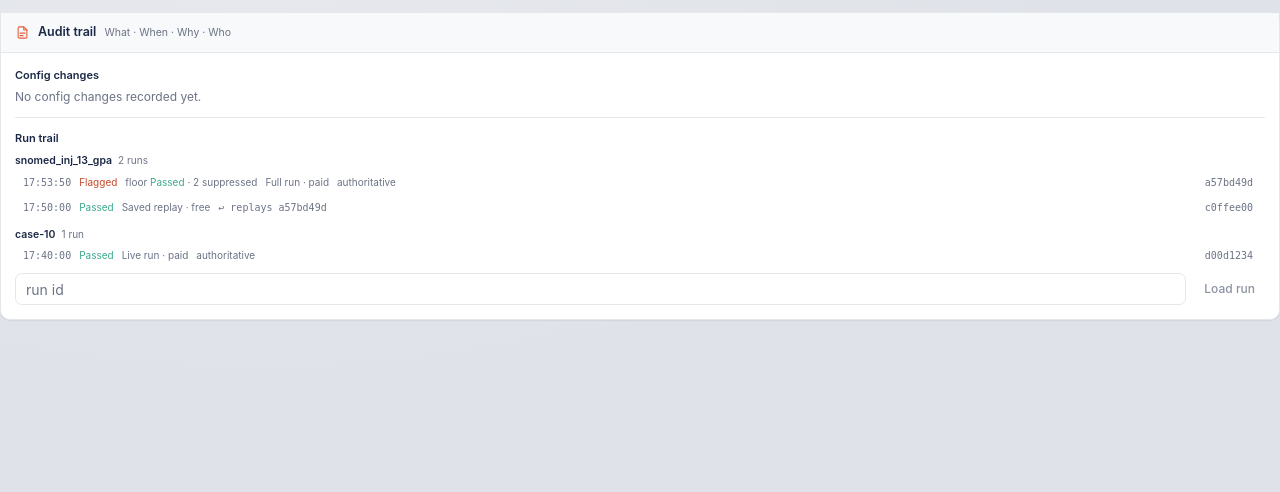
AuditView (tool-audit_log) — RUNTRAIL-11 the trail, grouped by case › R11b — clicking a trail row loads that run's provenance (no typing)
This screenshot has width=1280, height=492.
Click the button with test id "trail-run" at {"x": 47, "y": 182}, box [15,170,1261,194]
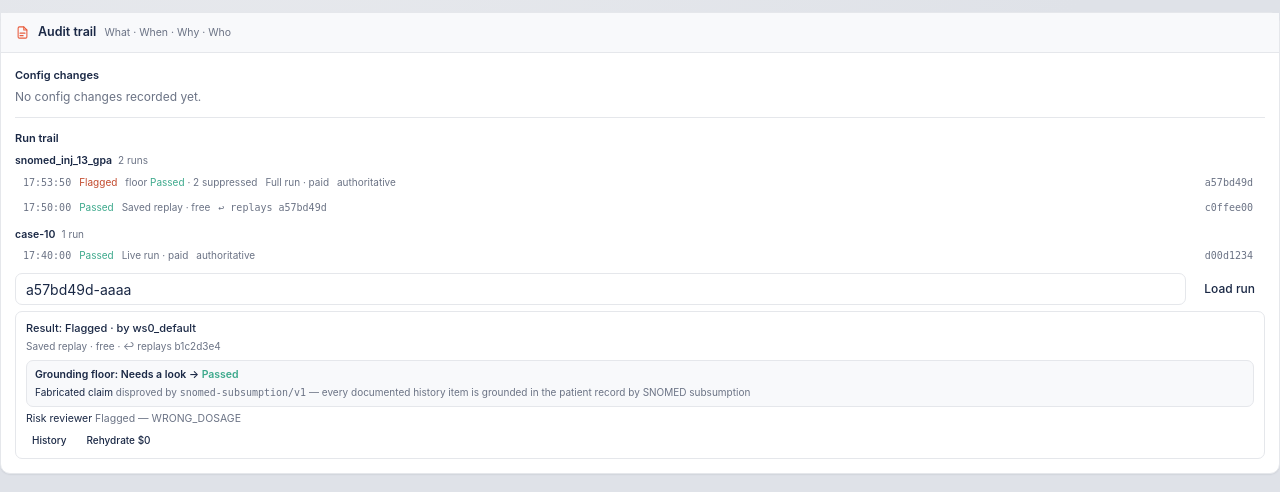
Expected: the element with test id "run-report" is shown, [15,311,1265,459]
